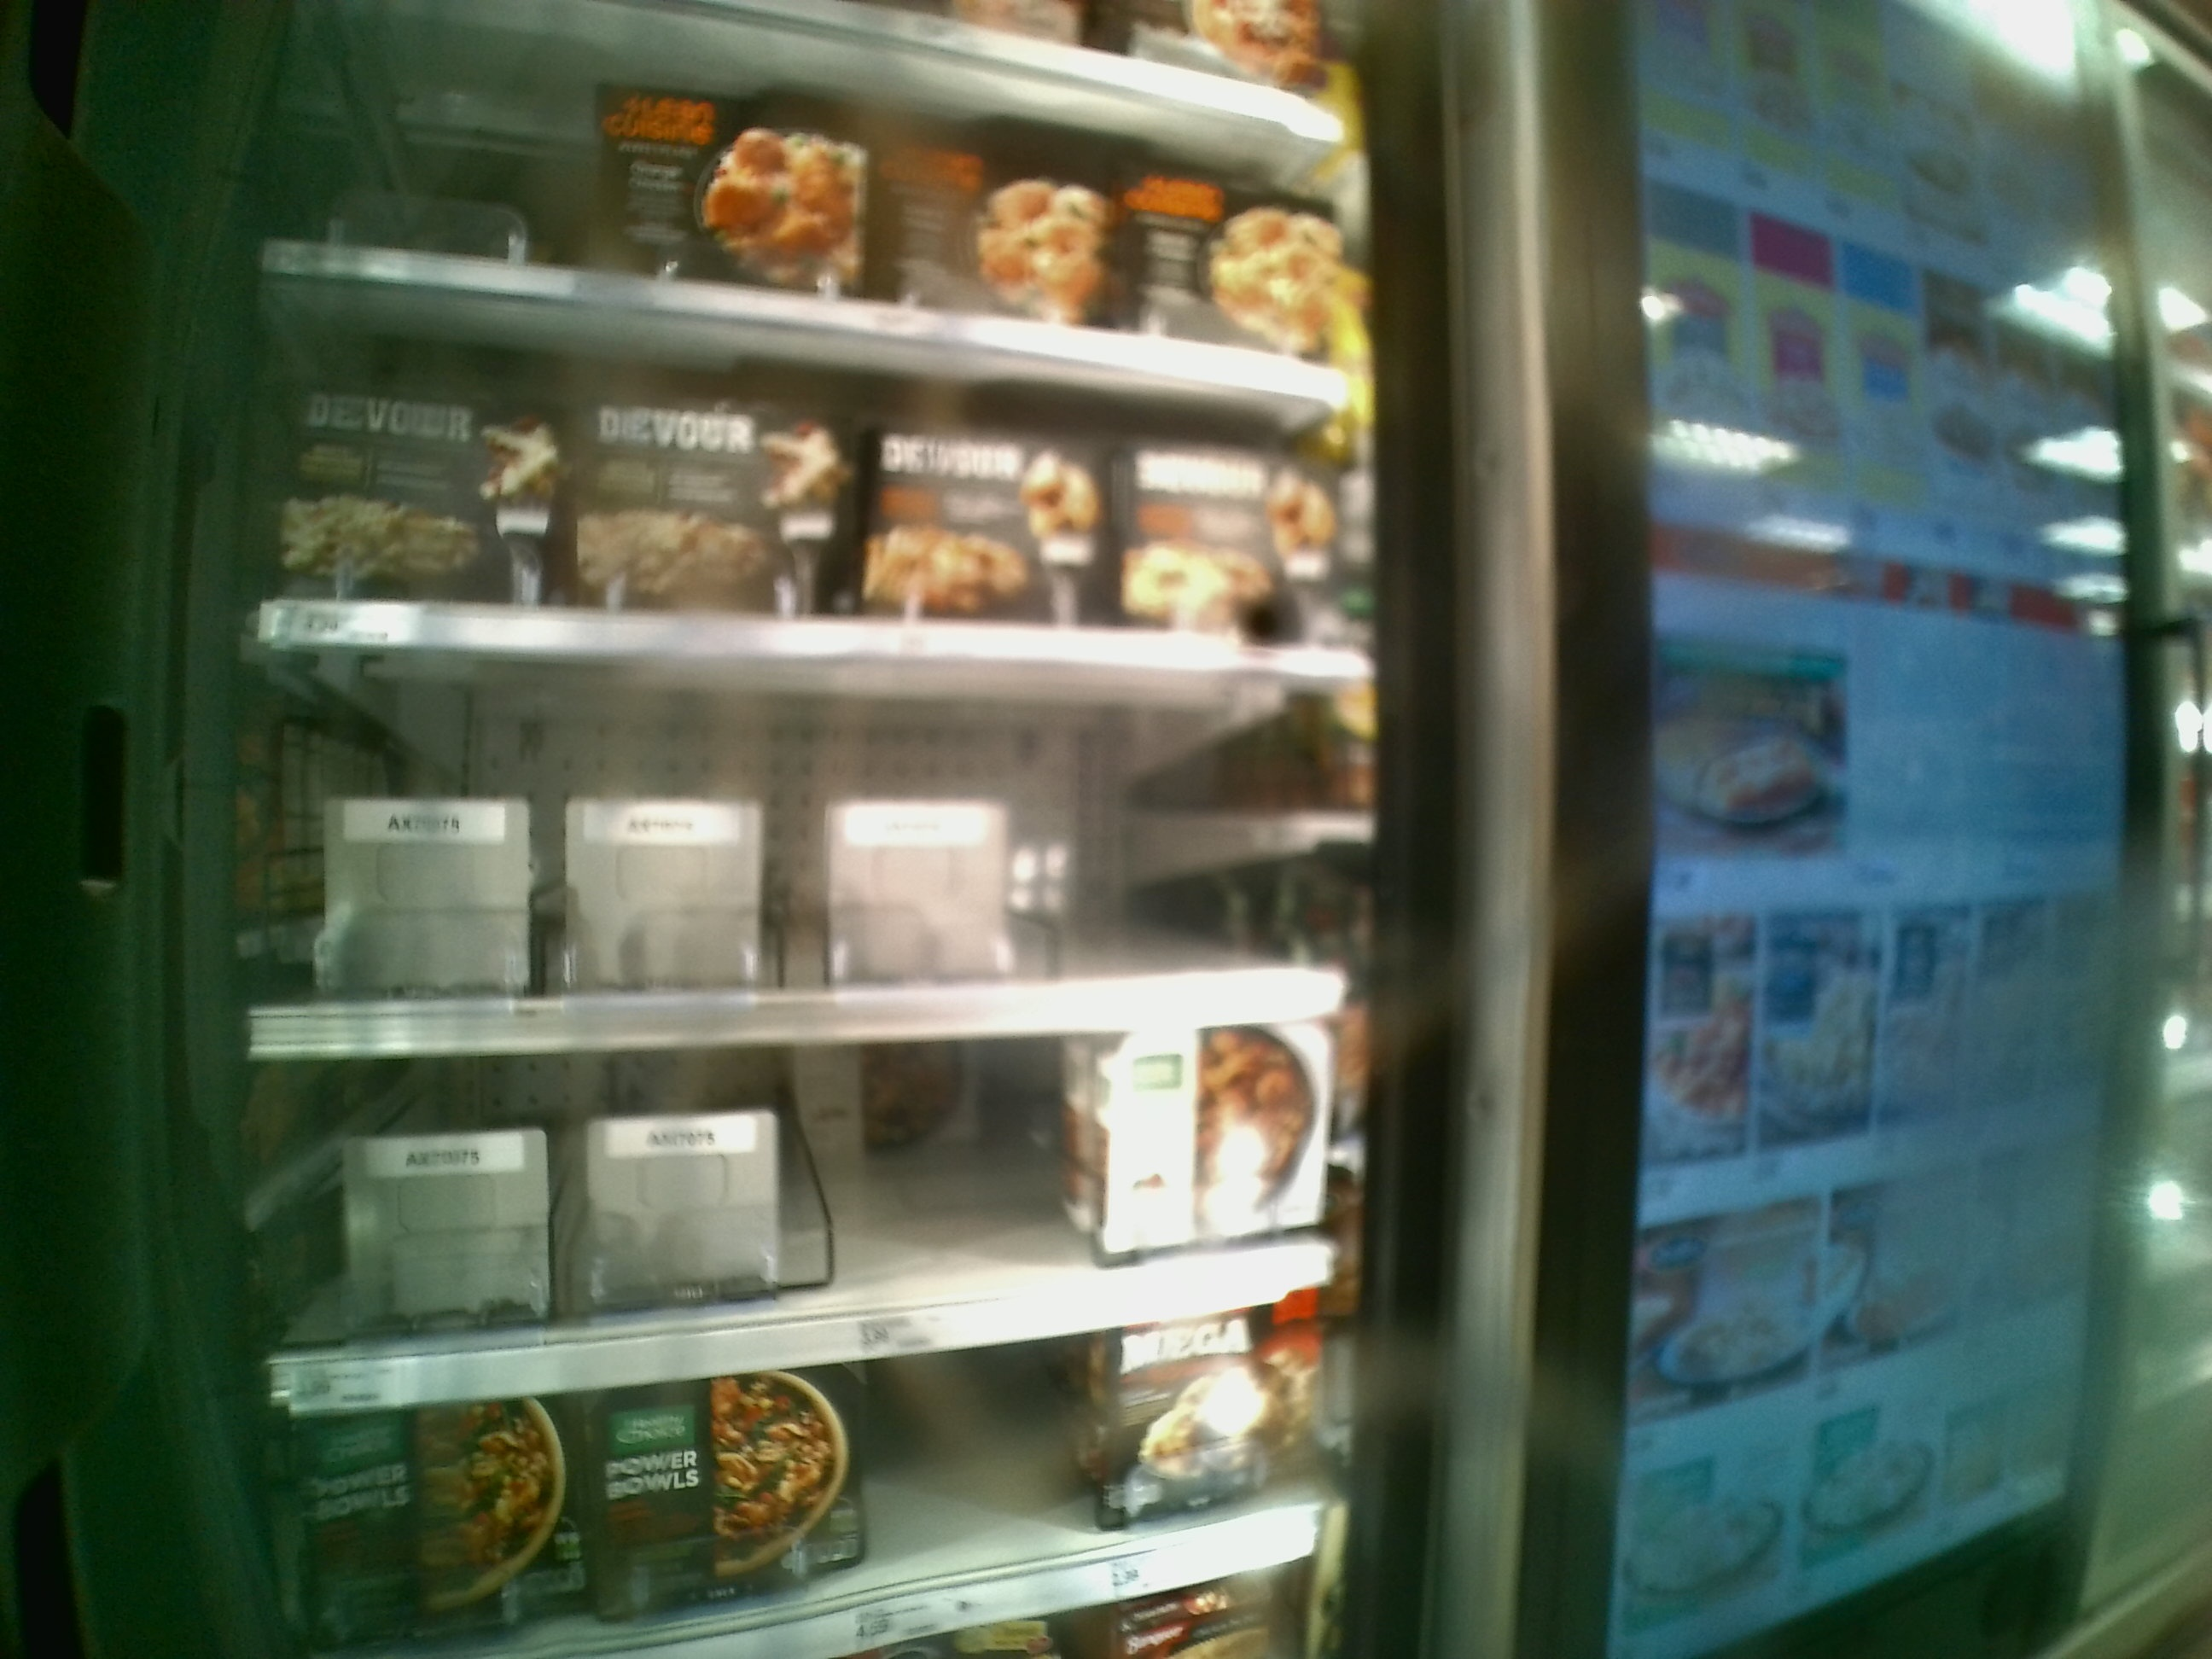shelf: (235, 647, 1355, 1073), (246, 1004, 1348, 1412), (251, 282, 1362, 681)
